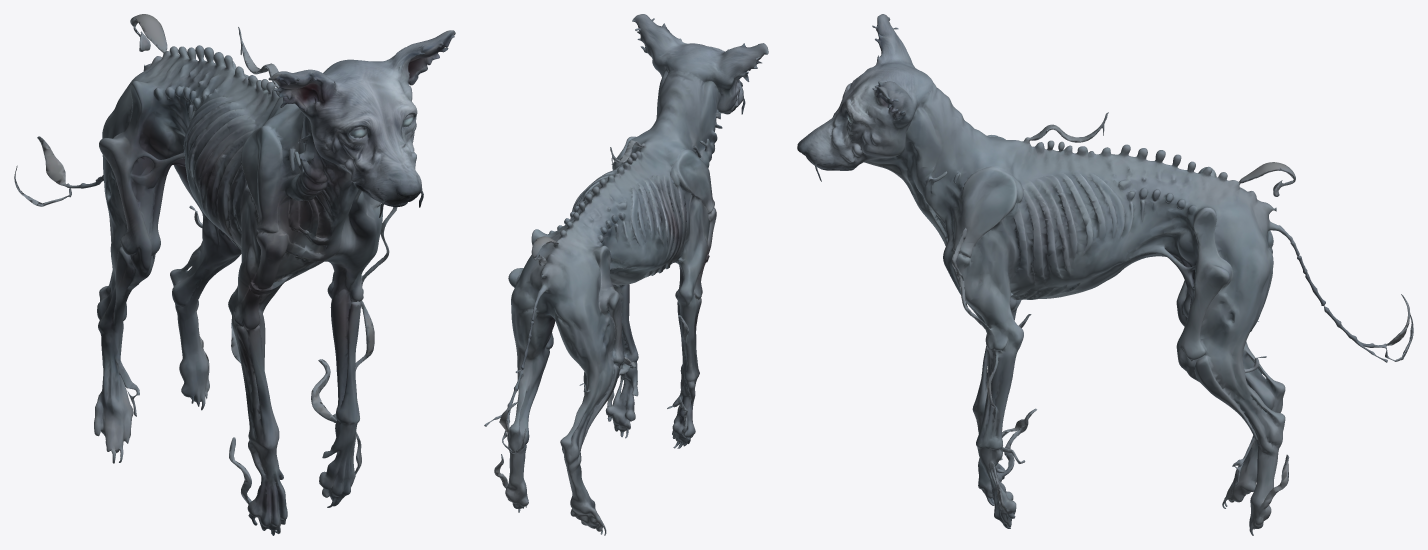
File: vong-linh-cho-hoang.glb
3 views of the same model, side by side, from view 1: azimuth 30°, elevation 25°; view 2: azimuth 150°, elevation 25°; view 3: azimuth 270°, elevation 25° (orthographic). The views are drawn at different scales.
Parts seen in each view (by area): view 1: tripo_node_f172b8ba-dbbb-4b7c-b6f0-cc0b91160493; view 2: tripo_node_f172b8ba-dbbb-4b7c-b6f0-cc0b91160493; view 3: tripo_node_f172b8ba-dbbb-4b7c-b6f0-cc0b91160493.
Part boxes in pixels (bbox=[...]): tripo_node_f172b8ba-dbbb-4b7c-b6f0-cc0b91160493: bbox=[14, 14, 455, 535]; tripo_node_f172b8ba-dbbb-4b7c-b6f0-cc0b91160493: bbox=[484, 14, 768, 535]; tripo_node_f172b8ba-dbbb-4b7c-b6f0-cc0b91160493: bbox=[797, 14, 1413, 535].
Bounding box in the file's own units: 0.308 × 0.8521 × 0.9894.
Materials: 1 (1 with a texture image).
